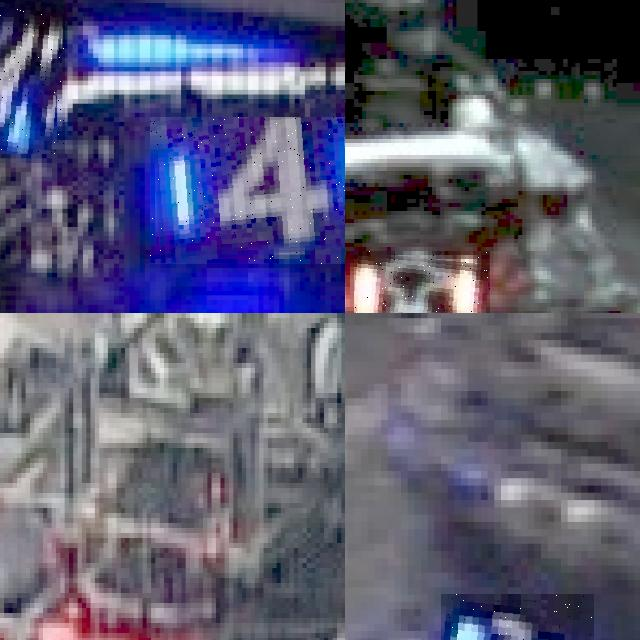B2: (440, 594, 594, 640)
B4: (150, 117, 345, 263), (0, 0, 65, 153)
Rs: (354, 251, 489, 313)
